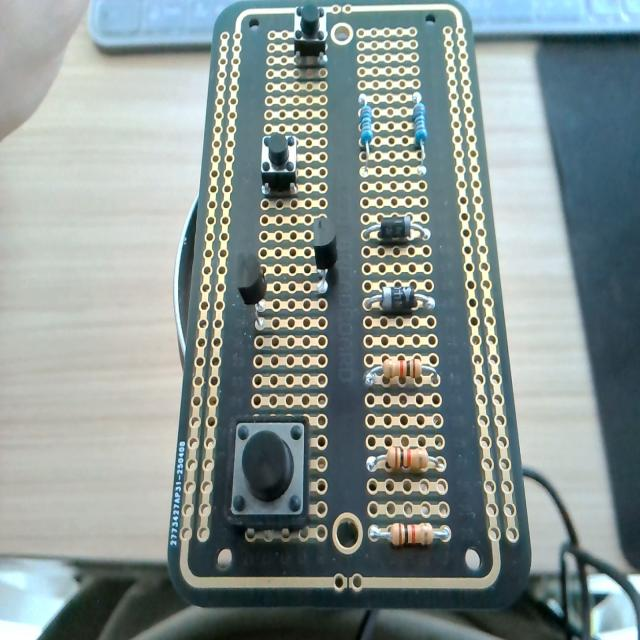diode: (364, 215, 427, 243), (365, 290, 434, 310)
resistor: (367, 440, 446, 480), (364, 355, 439, 382), (370, 523, 447, 546), (357, 94, 374, 177), (411, 94, 428, 175)
switch: (214, 407, 327, 533), (260, 132, 298, 197), (293, 3, 327, 63)
transistor: (230, 248, 273, 329), (312, 214, 338, 293)
